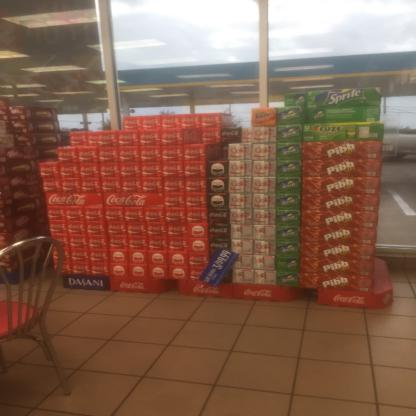Void: (226, 114, 248, 142), (76, 116, 121, 129), (209, 146, 226, 159)
